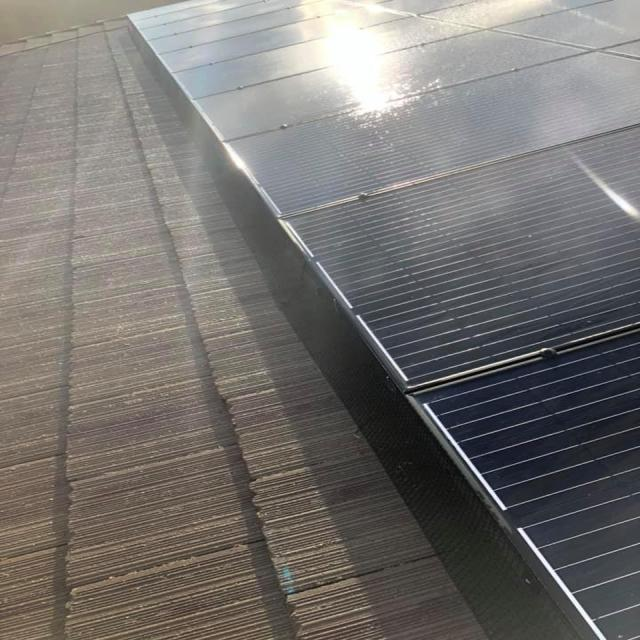clean-solar-panel: (131, 0, 640, 640)
